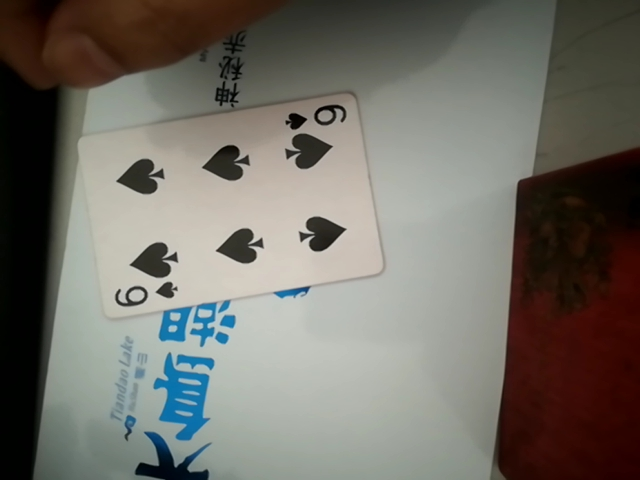ht 6: (77, 87, 384, 317)
